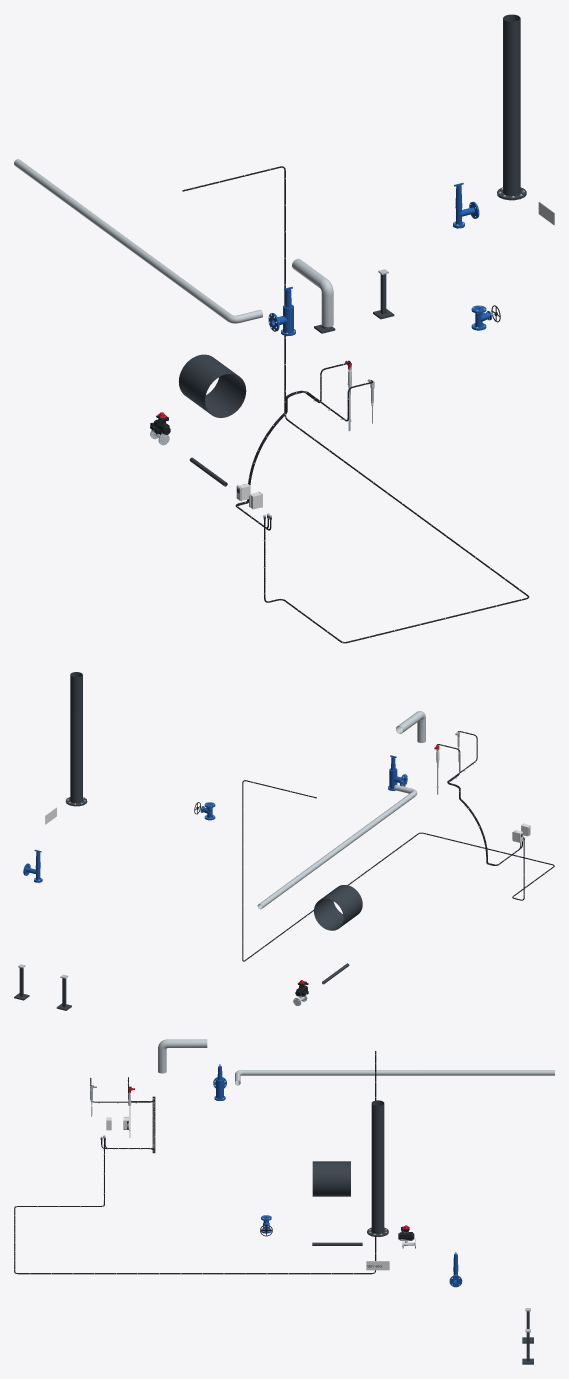
The picture shows the model from 3 angles, top to bottom: view 1: azimuth 30°, elevation 25°; view 2: azimuth 150°, elevation 25°; view 3: azimuth 270°, elevation 25°; orthographic projection. The views are drawn at different scales.
Parts seen in each view (by area): view 1: bdv_vent / dark, flue_spacer / dark, safety_vent_2 / steel, mod_direct_drive_cable / black, steam_rise / steel; view 2: bdv_vent / dark, flue_spacer / dark, safety_vent_2 / steel, mod_direct_drive_cable / black, steam_rise / steel, trap_support / dark; view 3: safety_vent_2 / steel, bdv_vent / dark, flue_spacer / dark, mod_direct_drive_cable / black, steam_rise / steel.
Boxes of the visible parts, <box> form: bdv_vent / dark: <box>497,14,526,200</box>; flue_spacer / dark: <box>178,354,246,417</box>; safety_vent_2 / steel: <box>14,159,262,323</box>; mod_direct_drive_cable / black: <box>182,166,529,643</box>; steam_rise / steel: <box>292,258,333,327</box>; bdv_vent / dark: <box>65,672,87,806</box>; flue_spacer / dark: <box>314,885,362,930</box>; safety_vent_2 / steel: <box>257,784,417,909</box>; mod_direct_drive_cable / black: <box>242,780,554,961</box>; steam_rise / steel: <box>396,711,425,742</box>; trap_support / dark: <box>14,968,71,1010</box>; safety_vent_2 / steel: <box>235,1070,554,1085</box>; bdv_vent / dark: <box>367,1100,388,1236</box>; flue_spacer / dark: <box>312,1161,350,1196</box>; mod_direct_drive_cable / black: <box>14,1051,376,1274</box>; steam_rise / steel: <box>158,1039,207,1073</box>.
Size of the model in its own units: 5.3 by 3.85 by 7.03.
